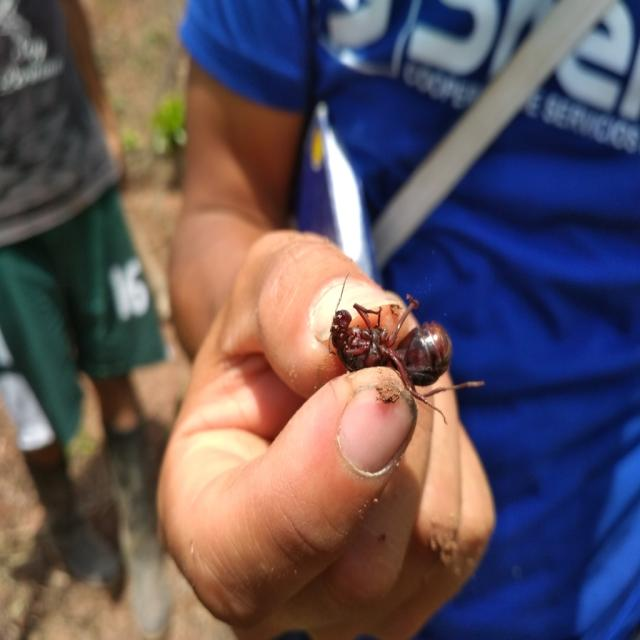Alive-Female-Dealate: (328, 270, 484, 426)
